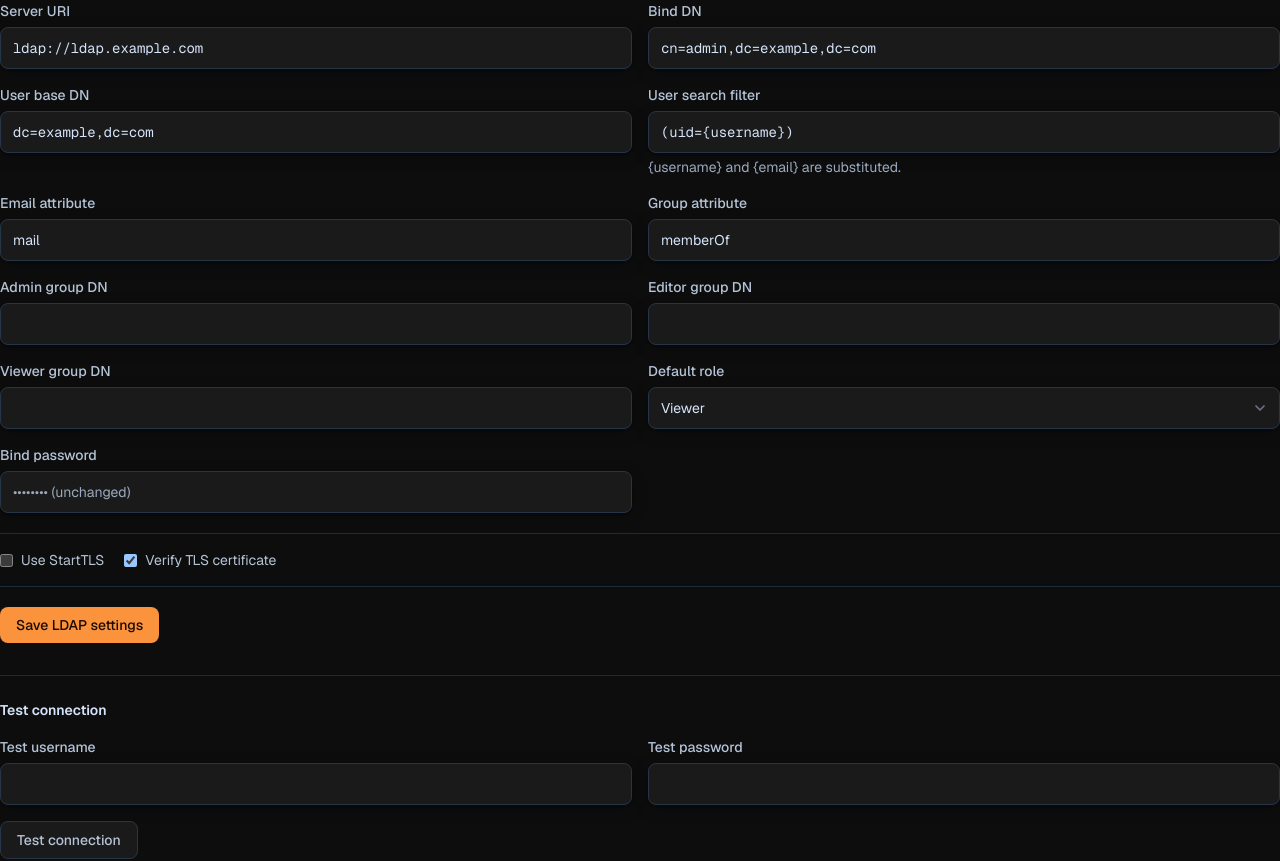
Test: LdapPanel › sends touched password and renders connection result
Type "s3cret" into the password field labelled "Bind password" at [316, 492], box left=0, top=471, right=632, bottom=513
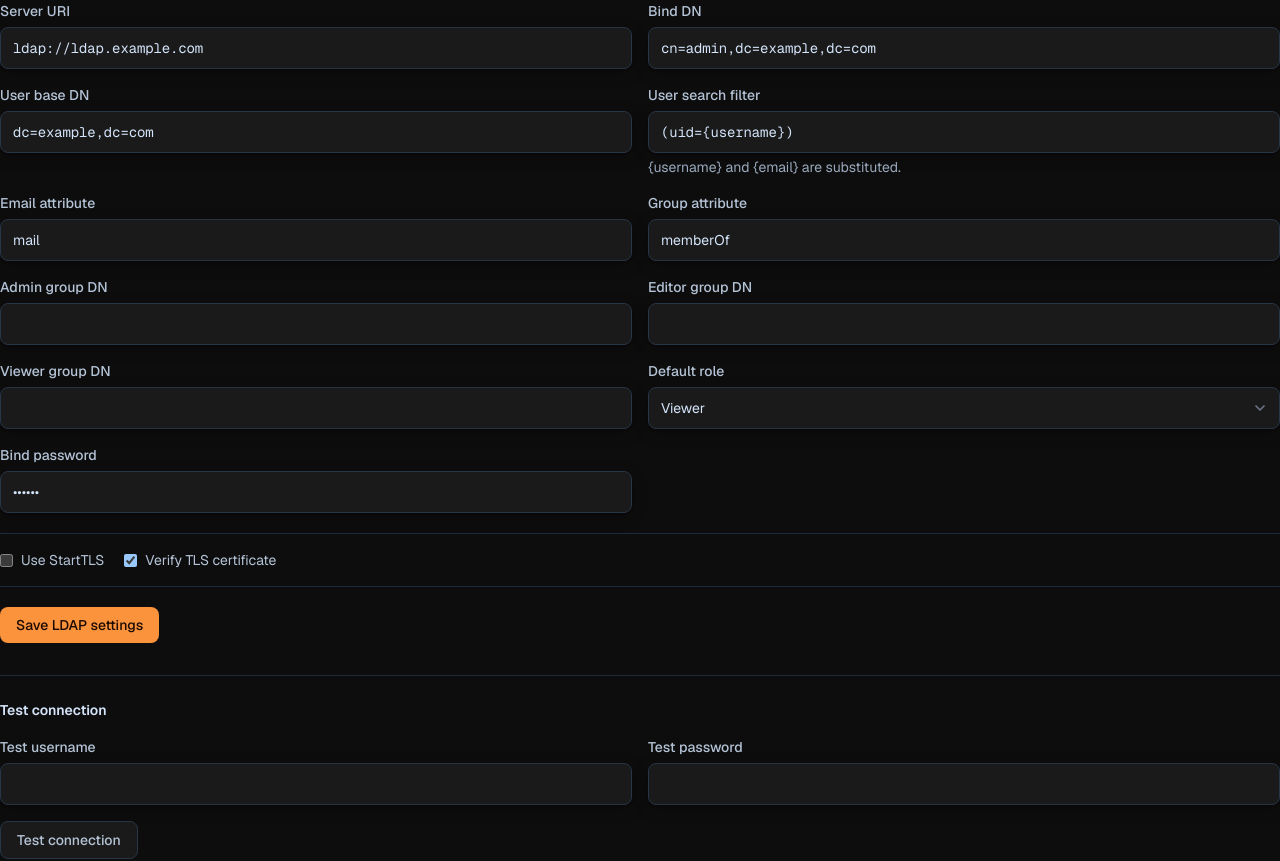
Click the button "Save LDAP settings" at [80, 625], box left=0, top=607, right=159, bottom=643
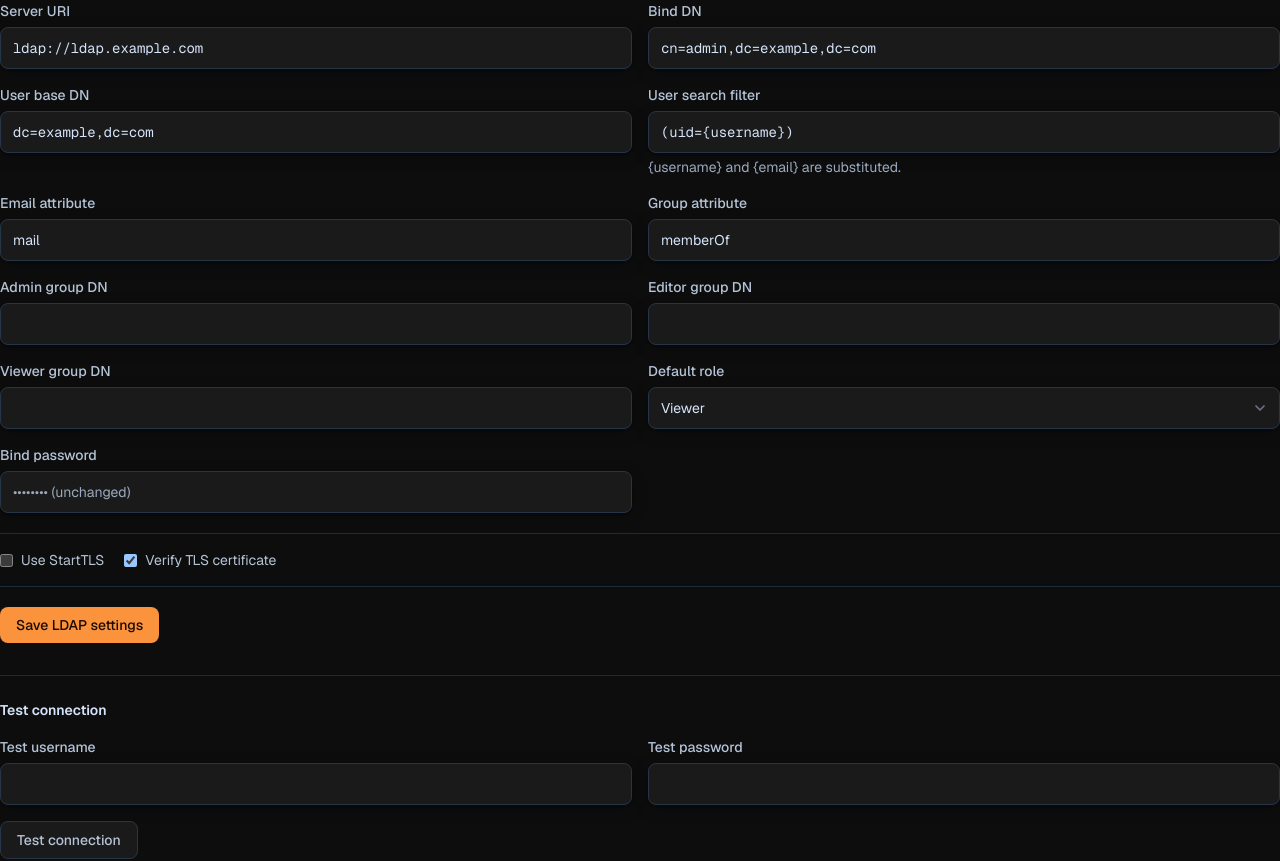
Type "jdoe" into the field labelled "Test username" at [316, 784], box left=0, top=763, right=632, bottom=805
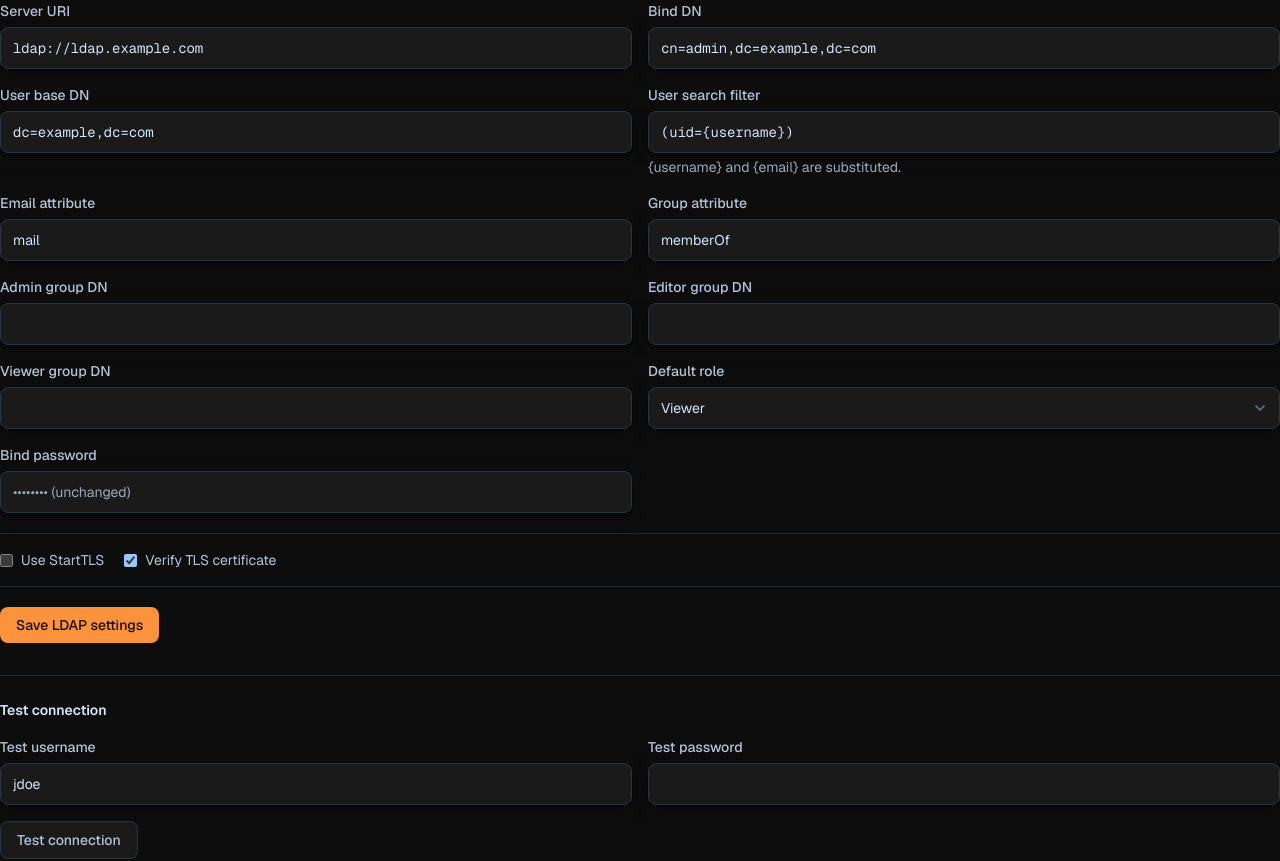
Click the button "Test connection" at [69, 840], box left=0, top=821, right=138, bottom=859
(page scrolled)
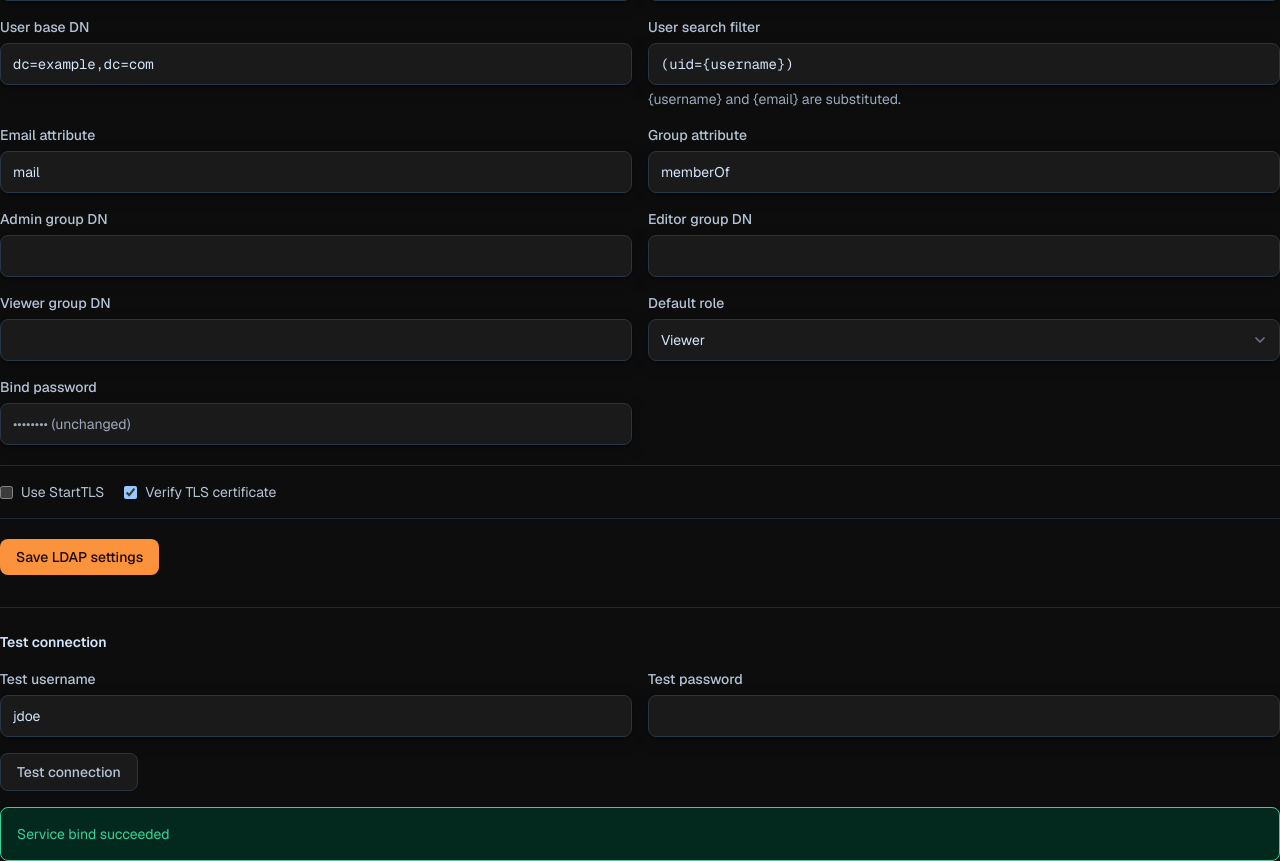
Check: the text "Service bind succeeded" is shown, box left=0, top=807, right=1279, bottom=860
